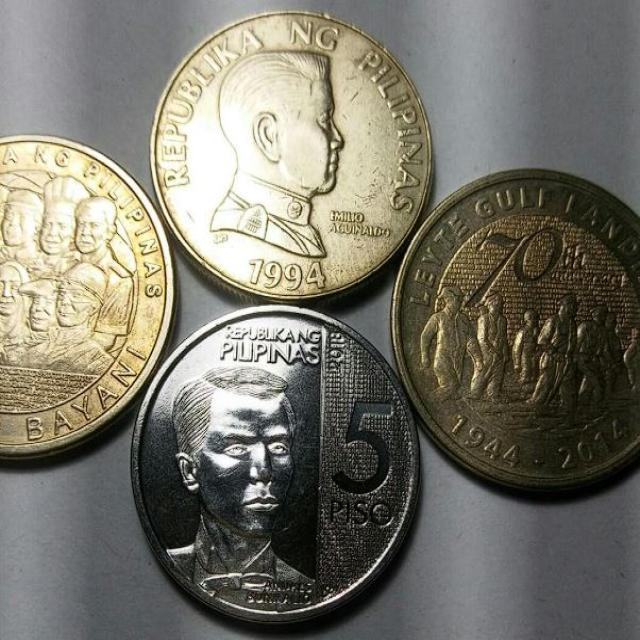5 peso: (129, 299, 421, 640)
